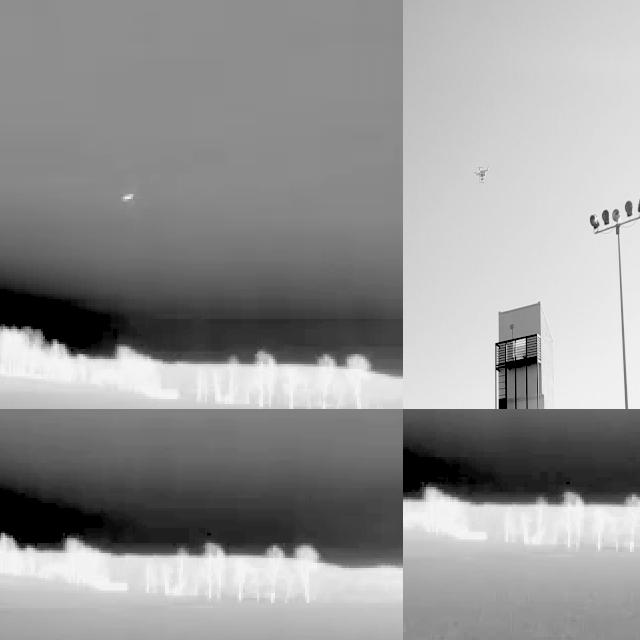1: (109, 183, 147, 223)
drone: (475, 160, 491, 185)
